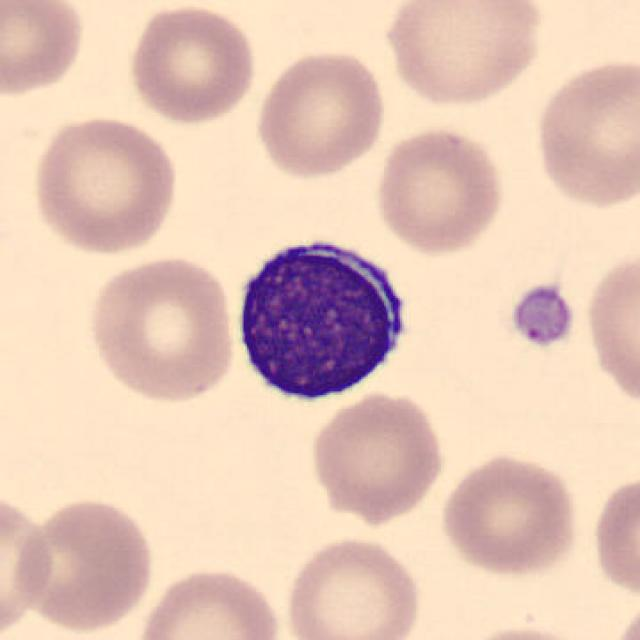Lymphocyte: (224, 224, 420, 412)
Platelets: (505, 280, 579, 351)
RBC: (84, 252, 240, 406), (27, 111, 181, 257), (13, 492, 158, 635), (306, 388, 448, 525), (436, 450, 583, 580), (377, 0, 547, 111), (251, 46, 389, 182), (370, 124, 508, 258), (530, 51, 638, 212), (124, 2, 260, 128), (281, 532, 425, 640), (130, 562, 286, 640), (582, 243, 638, 416), (0, 486, 58, 640), (0, 0, 89, 100), (588, 467, 638, 605), (452, 622, 599, 640)
